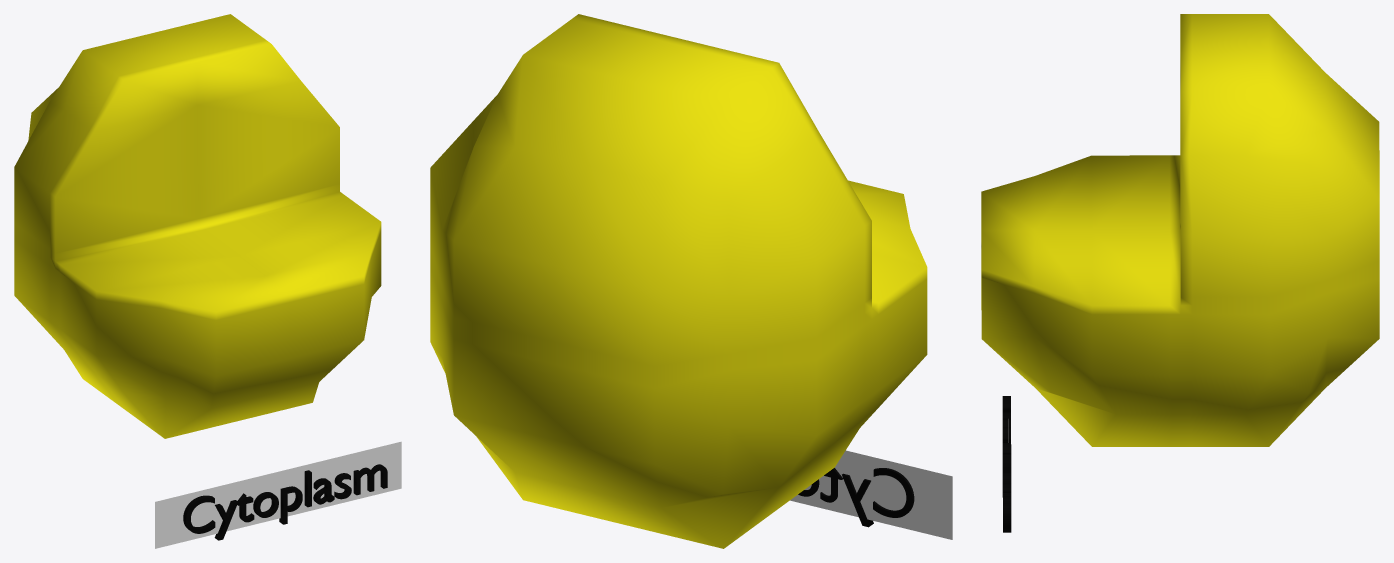
The model's file is cytoplasm.gltf.
The picture shows the model from 3 angles, left to right: view 1: azimuth 30°, elevation 25°; view 2: azimuth 150°, elevation 25°; view 3: azimuth 270°, elevation 25°; orthographic projection. The views are drawn at different scales.
Visible parts, largest first — view 1: main, Plane.009, Text.011; view 2: main, Plane.009, Text.011; view 3: main, Text.011.
Boxes of the visible parts, box(x1,y1,x2,y2) form: main: box(14, 14, 381, 438); Plane.009: box(155, 441, 401, 548); Text.011: box(183, 464, 387, 540); main: box(430, 14, 927, 548); Plane.009: box(790, 450, 952, 539); Text.011: box(798, 468, 914, 527); main: box(981, 14, 1379, 446); Text.011: box(1002, 396, 1011, 532).
Bounding box in the file's own units: 0.9849 × 1.33 × 1.1.
